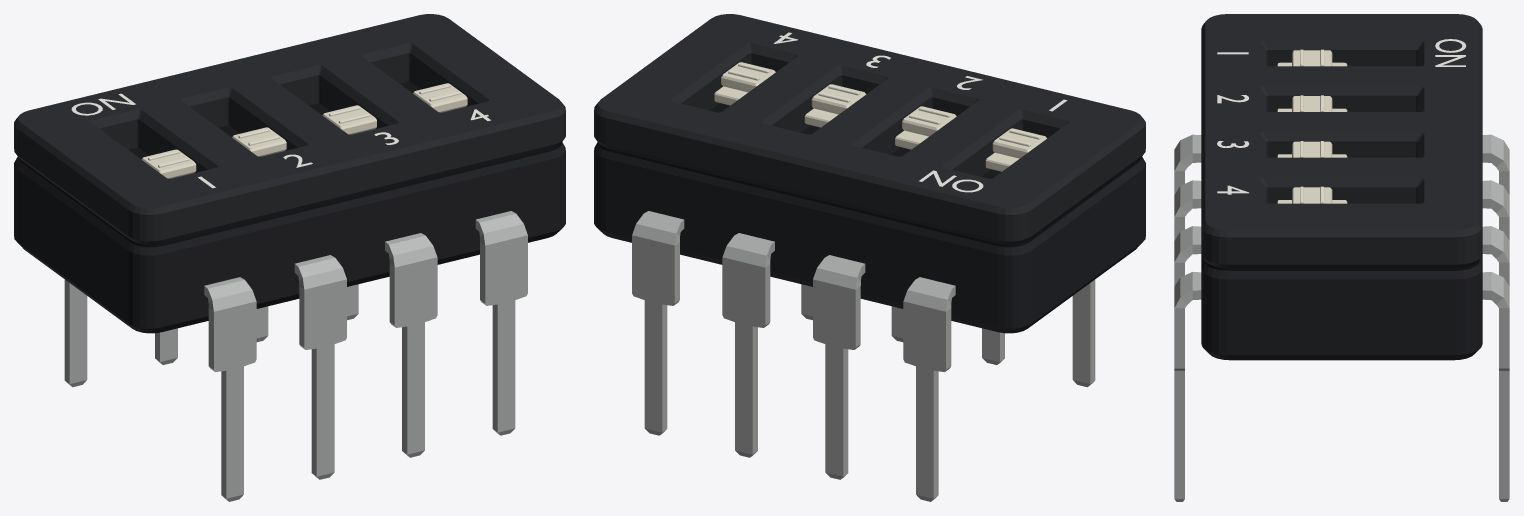
File: dip-switch-a6d.glb
3 views of the same model, side by side, from view 1: azimuth 30°, elevation 25°; view 2: azimuth 150°, elevation 25°; view 3: azimuth 270°, elevation 25° (orthographic). The views are drawn at different scales.
Parts seen in each view (by area): view 1: A6D_RECESSED_COVER, A6D_SEALED_BASE, A6D_LEAD_4, A6D_LEAD_2, A6D_LEAD_1, A6D_LEAD_3, A6D_LEAD_8, A6D_CASE_SEAM, A6D_SLIDER_CAP_1, A6D_SLIDER_CAP_2, A6D_SLIDER_CAP_4, A6D_SLIDER_CAP_3 (+1 smaller); view 2: A6D_RECESSED_COVER, A6D_SEALED_BASE, A6D_LEAD_5, A6D_LEAD_7, A6D_LEAD_8, A6D_LEAD_6, A6D_LEAD_1, A6D_CASE_SEAM, A6D_SLIDER_CAP_3, A6D_SLIDER_CAP_1, A6D_SLIDER_CAP_4, A6D_SLIDER_CAP_2 (+1 smaller); view 3: A6D_RECESSED_COVER, A6D_SEALED_BASE, A6D_LEAD_4, A6D_LEAD_5, A6D_LEAD_3, A6D_LEAD_6, A6D_LEAD_2, A6D_LEAD_7, A6D_LEAD_1, A6D_LEAD_8, A6D_CASE_SEAM, A6D_SLIDER_CAP_1 (+4 smaller).
Part boxes in pixels (x1=…): A6D_RECESSED_COVER: x1=14, y1=14, x2=565, y2=244; A6D_SEALED_BASE: x1=14, y1=142, x2=565, y2=333; A6D_LEAD_4: x1=475, y1=211, x2=527, y2=435; A6D_LEAD_2: x1=294, y1=255, x2=346, y2=479; A6D_LEAD_1: x1=204, y1=277, x2=256, y2=501; A6D_LEAD_3: x1=385, y1=233, x2=437, y2=457; A6D_LEAD_8: x1=64, y1=279, x2=87, y2=387; A6D_CASE_SEAM: x1=18, y1=81, x2=561, y2=247; A6D_SLIDER_CAP_1: x1=141, y1=149, x2=196, y2=178; A6D_SLIDER_CAP_2: x1=232, y1=127, x2=286, y2=156; A6D_SLIDER_CAP_4: x1=413, y1=83, x2=467, y2=112; A6D_SLIDER_CAP_3: x1=322, y1=105, x2=376, y2=134; A6D_RECESSED_COVER: x1=594, y1=14, x2=1145, y2=244; A6D_SEALED_BASE: x1=594, y1=142, x2=1145, y2=333; A6D_LEAD_5: x1=632, y1=211, x2=684, y2=435; A6D_LEAD_7: x1=813, y1=255, x2=865, y2=479; A6D_LEAD_8: x1=903, y1=277, x2=955, y2=501; A6D_LEAD_6: x1=722, y1=233, x2=774, y2=457; A6D_LEAD_1: x1=1072, y1=279, x2=1095, y2=387; A6D_CASE_SEAM: x1=598, y1=103, x2=1141, y2=247; A6D_SLIDER_CAP_3: x1=804, y1=84, x2=866, y2=127; A6D_SLIDER_CAP_1: x1=985, y1=128, x2=1046, y2=171; A6D_SLIDER_CAP_4: x1=714, y1=62, x2=775, y2=105; A6D_SLIDER_CAP_2: x1=895, y1=106, x2=956, y2=149; A6D_RECESSED_COVER: x1=1201, y1=14, x2=1482, y2=268; A6D_SEALED_BASE: x1=1201, y1=254, x2=1482, y2=360; A6D_LEAD_4: x1=1174, y1=272, x2=1201, y2=501; A6D_LEAD_5: x1=1482, y1=272, x2=1509, y2=501; A6D_LEAD_3: x1=1174, y1=226, x2=1201, y2=286; A6D_LEAD_6: x1=1482, y1=226, x2=1509, y2=286; A6D_LEAD_2: x1=1174, y1=180, x2=1201, y2=240; A6D_LEAD_7: x1=1482, y1=180, x2=1509, y2=240; A6D_LEAD_1: x1=1174, y1=134, x2=1201, y2=194; A6D_LEAD_8: x1=1482, y1=134, x2=1509, y2=194; A6D_CASE_SEAM: x1=1204, y1=260, x2=1479, y2=270; A6D_SLIDER_CAP_1: x1=1277, y1=49, x2=1347, y2=66.
Bounding box in the file's own units: 1.22 × 0.8005 × 0.787.
